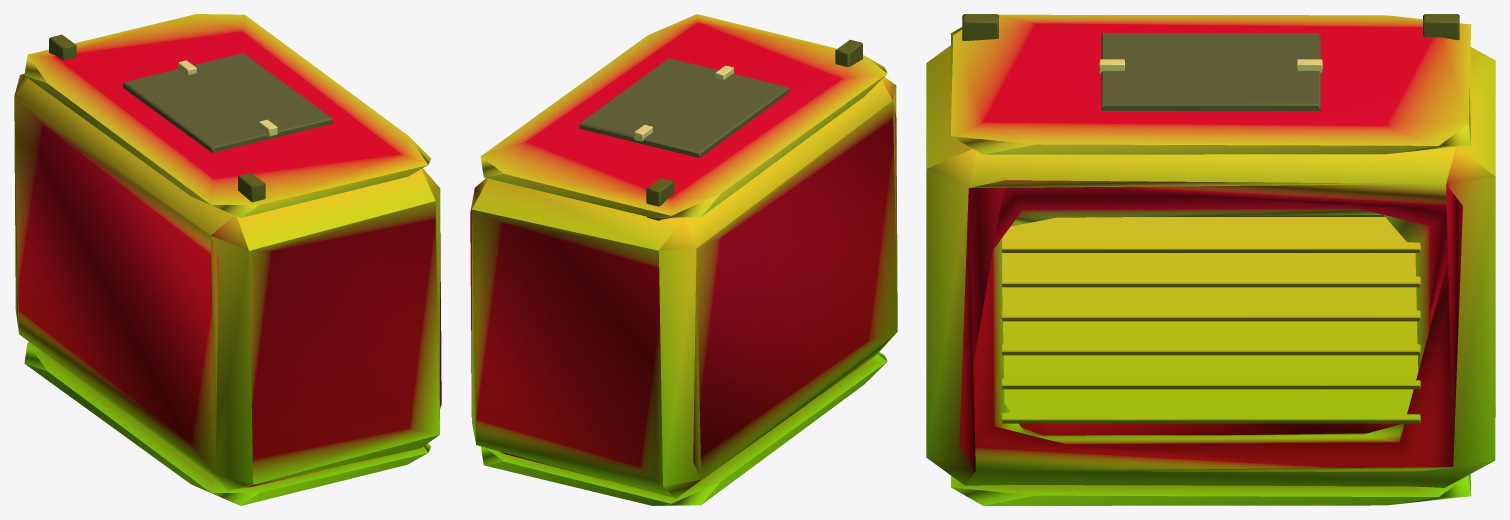
File: RCLModule_overlord_command_hq_solar_gold_radiator.fbx
3 renders of one model, left to right at view 1: azimuth 30°, elevation 25°; view 2: azimuth 150°, elevation 25°; view 3: azimuth 270°, elevation 25°, orthographic. The views are drawn at different scales.
Visible parts, largest first — view 1: RCLModule_overlord_command_hq_solar_gold_radiator_Batch_RCLM (×2); view 2: RCLModule_overlord_command_hq_solar_gold_radiator_Batch_RCLM (×2); view 3: RCLModule_overlord_command_hq_solar_gold_radiator_Batch_RCLM (×3).
Part boxes in pixels (x1,y1,x2,y2): RCLModule_overlord_command_hq_solar_gold_radiator_Batch_RCLM (×2): (14, 14, 441, 505); RCLModule_overlord_command_hq_solar_gold_radiator_Batch_RCLM (×2): (470, 14, 897, 505); RCLModule_overlord_command_hq_solar_gold_radiator_Batch_RCLM (×3): (926, 14, 1495, 505).
Bounding box in the file's own units: 35.04 × 46.66 × 62.27.
